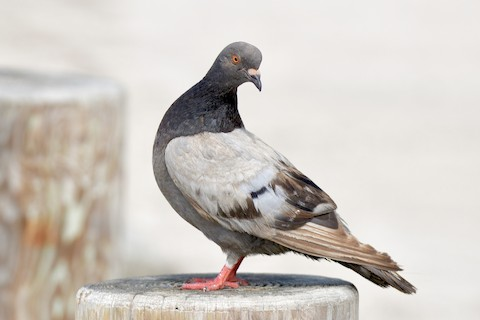pigeon: (144, 32, 425, 302)
